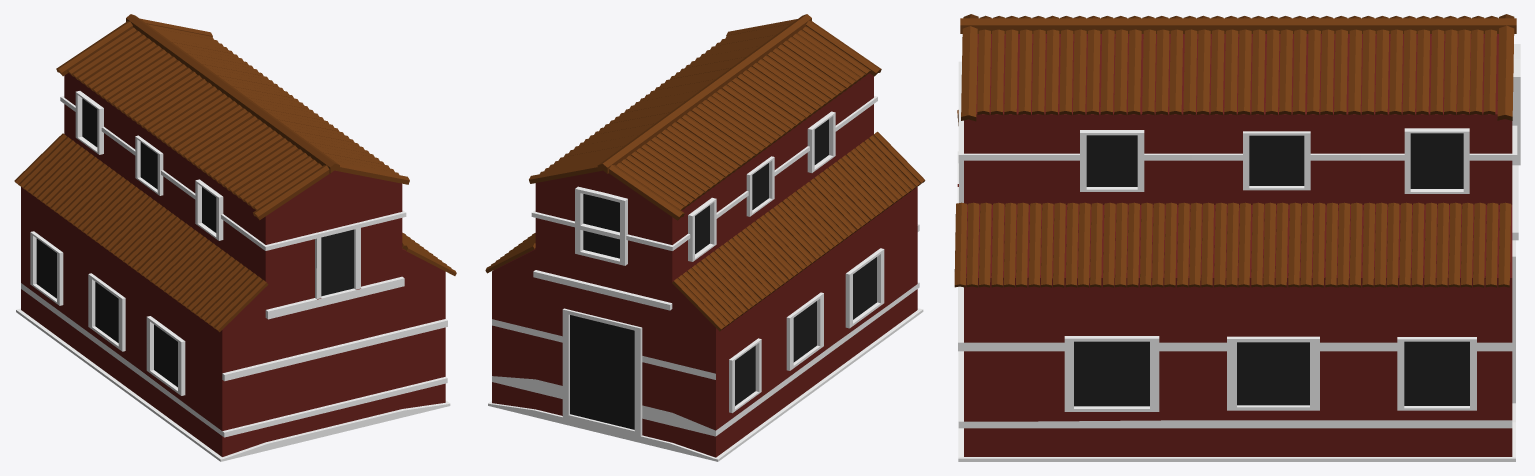
The model's file is SM_Barn_001.fbx.
3 renders of one model, left to right at view 1: azimuth 30°, elevation 25°; view 2: azimuth 150°, elevation 25°; view 3: azimuth 270°, elevation 25°, orthographic. The views are drawn at different scales.
Visible parts, largest first — view 1: Barn; view 2: Barn; view 3: Barn.
Boxes of the visible parts, left/top/right/bottom form: Barn: left=14, top=14, right=456, bottom=461; Barn: left=485, top=14, right=925, bottom=461; Barn: left=954, top=14, right=1520, bottom=461.
Size of the model in its own units: 540 by 584 by 815.
